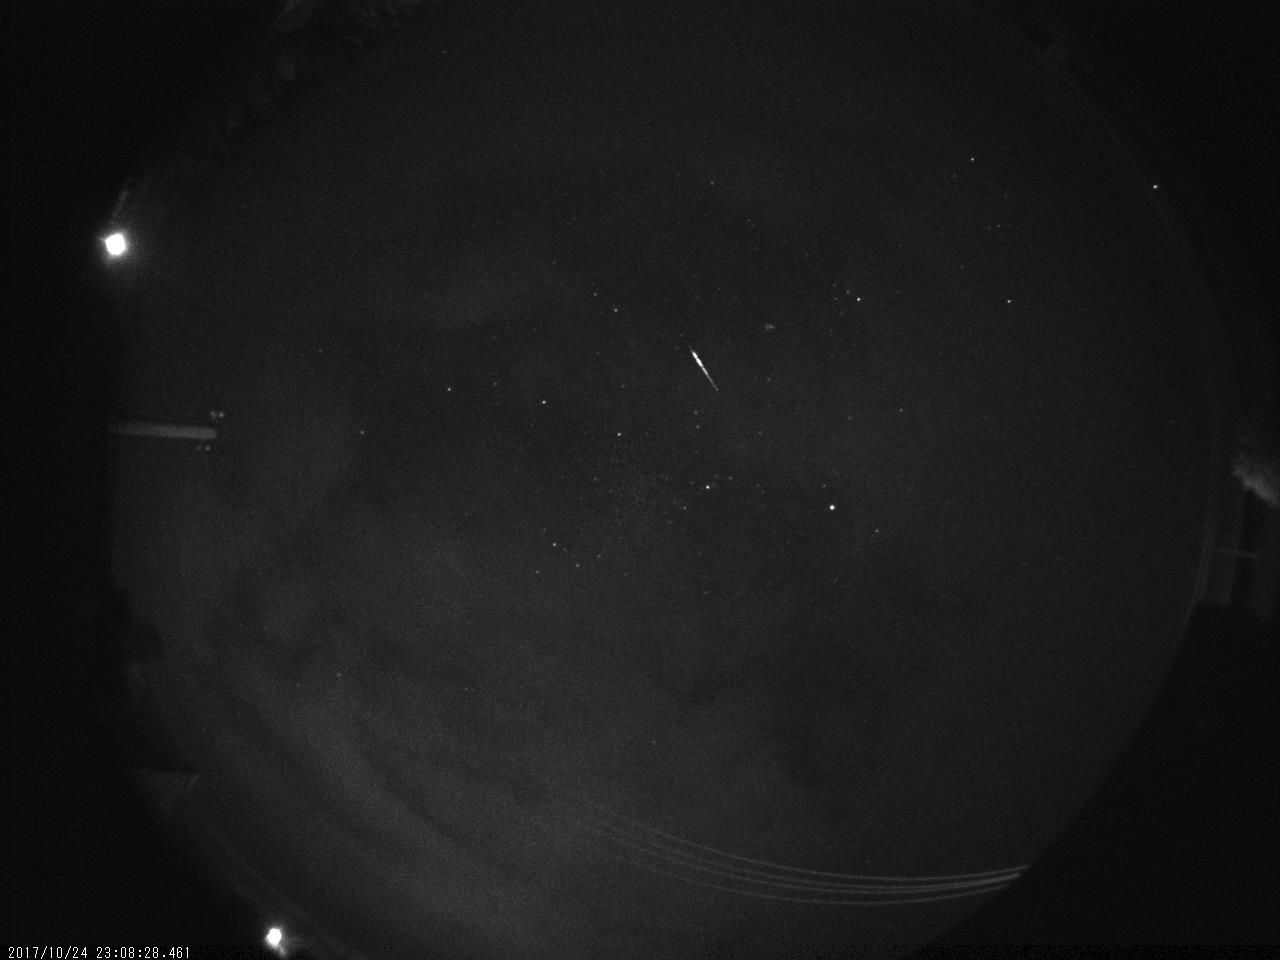meteor: (682, 337, 727, 395)
